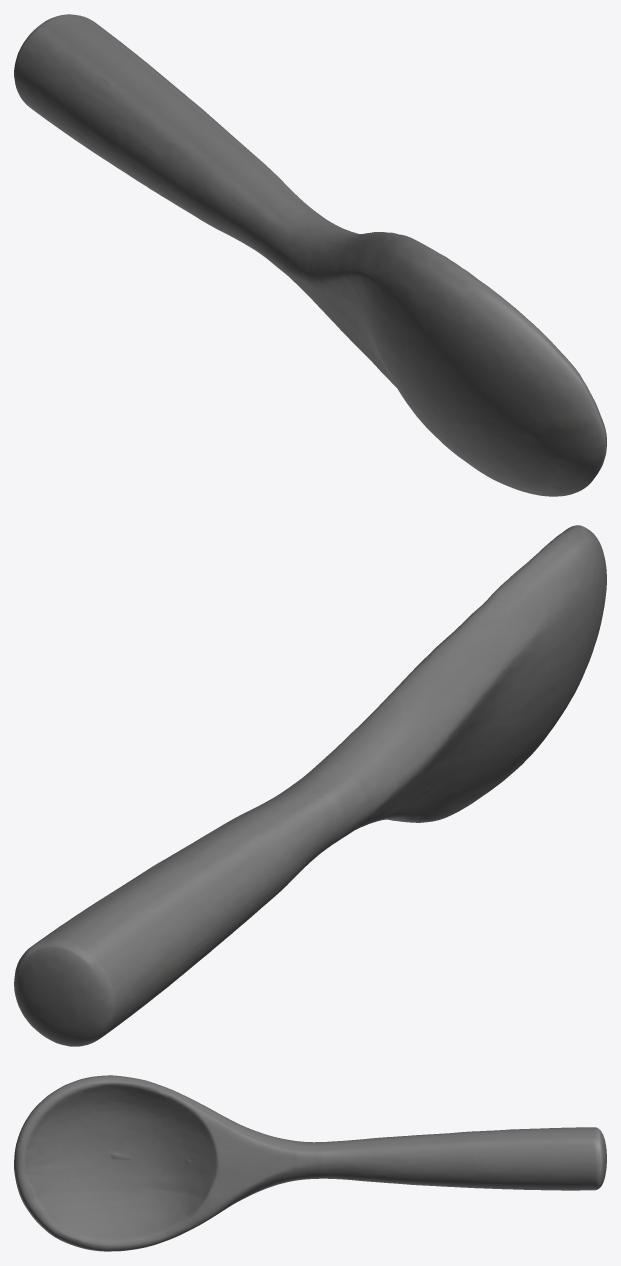
Rendered from spoon.glb.
3 views of the same model, one above another, from view 1: azimuth 30°, elevation 25°; view 2: azimuth 150°, elevation 25°; view 3: azimuth 270°, elevation 25° (orthographic). The views are drawn at different scales.
Parts seen in each view (by area): view 1: tripo_node_267b6a99-f6b4-48ed-b836-c186dd2afcde; view 2: tripo_node_267b6a99-f6b4-48ed-b836-c186dd2afcde; view 3: tripo_node_267b6a99-f6b4-48ed-b836-c186dd2afcde.
Part boxes in pixels (x1,y1,x2,y2): tripo_node_267b6a99-f6b4-48ed-b836-c186dd2afcde: (14, 14, 606, 496); tripo_node_267b6a99-f6b4-48ed-b836-c186dd2afcde: (14, 525, 606, 1046); tripo_node_267b6a99-f6b4-48ed-b836-c186dd2afcde: (14, 1075, 606, 1251).
Size of the model in its own units: 0.1597 by 0.2746 by 1.
1 material, 1 textured.
